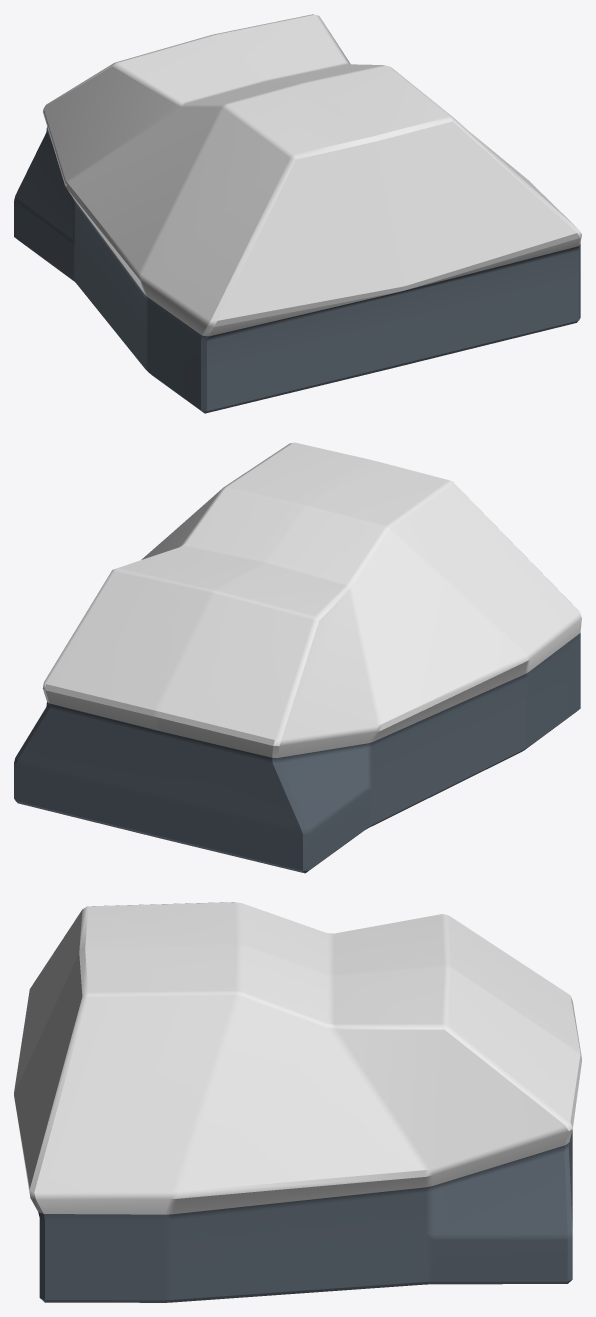
File: Rock_2 with Snow.fbx
The picture shows the model from 3 angles, top to bottom: view 1: azimuth 30°, elevation 25°; view 2: azimuth 150°, elevation 25°; view 3: azimuth 270°, elevation 25°; orthographic projection. The views are drawn at different scales.
Visible parts, largest first — view 1: rock_2_with_snow; view 2: rock_2_with_snow; view 3: rock_2_with_snow.
Boxes of the visible parts, x1,y1,x2,y2 form: rock_2_with_snow: (14, 14, 581, 413); rock_2_with_snow: (14, 442, 581, 873); rock_2_with_snow: (14, 902, 581, 1302).
Bounding box in the file's own units: 1.23 × 0.7141 × 1.36.
